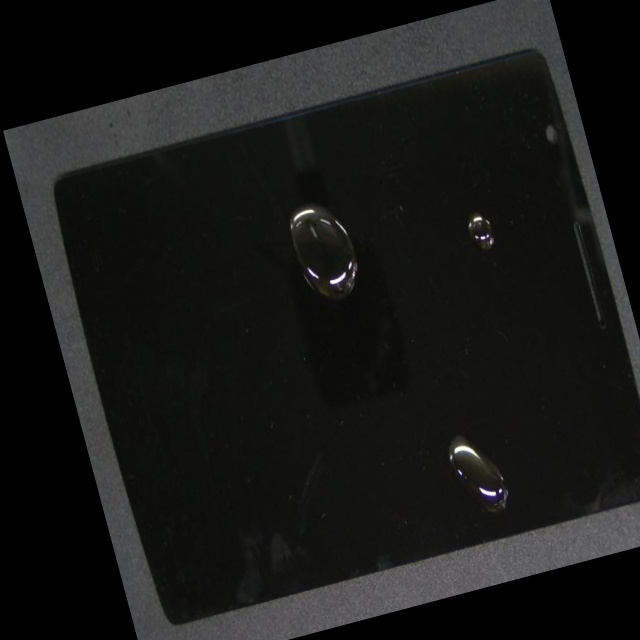oil: (261, 215, 640, 625), (253, 83, 624, 363), (202, 114, 499, 324)
